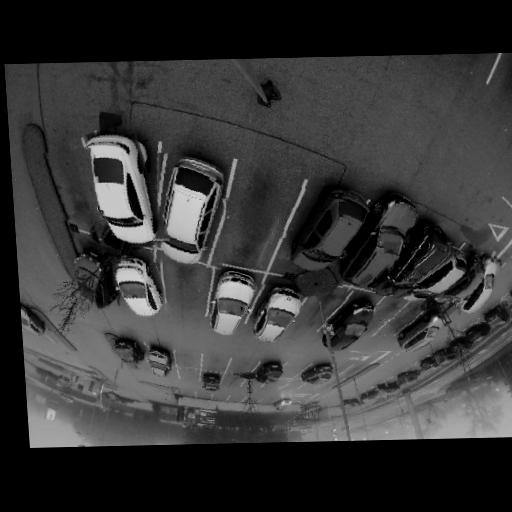busy: (73, 125, 164, 256), (148, 152, 233, 269), (338, 190, 423, 295), (286, 187, 372, 273), (382, 224, 459, 296), (108, 252, 168, 324), (202, 269, 260, 337), (447, 252, 507, 313), (251, 283, 309, 343), (321, 297, 381, 354), (411, 247, 473, 300), (70, 250, 119, 310), (397, 312, 449, 353), (110, 334, 143, 369), (141, 345, 177, 377), (20, 299, 45, 337), (300, 362, 337, 385), (479, 306, 511, 329), (254, 360, 284, 383), (373, 381, 400, 397), (201, 373, 222, 392), (396, 370, 419, 387), (356, 389, 381, 404), (275, 397, 293, 410), (507, 284, 512, 307)
free: (44, 148, 102, 220), (224, 189, 286, 246), (163, 272, 207, 303), (298, 296, 328, 323), (372, 302, 402, 324), (394, 310, 416, 332), (177, 351, 199, 368), (323, 361, 346, 377), (267, 377, 291, 391), (178, 367, 197, 384), (230, 358, 253, 371), (203, 356, 224, 370), (282, 361, 302, 374), (223, 375, 242, 386), (259, 396, 273, 405)
